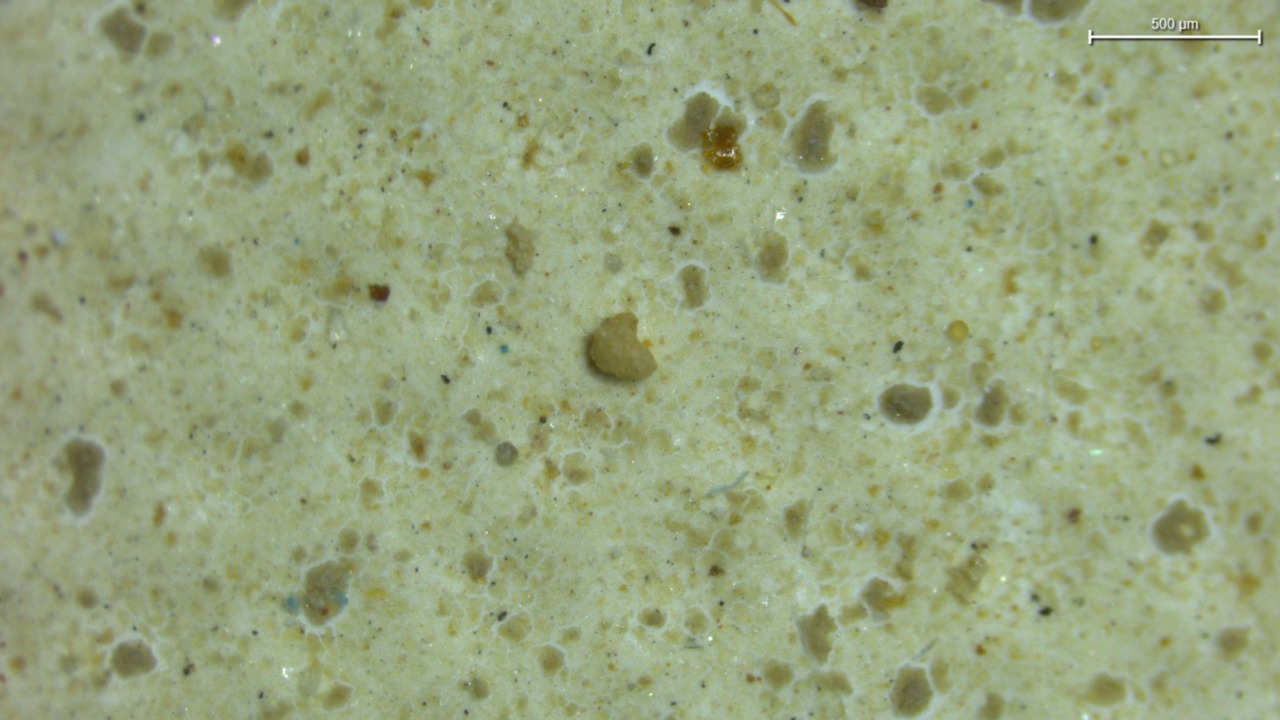microplastic_fragment: (587, 313, 657, 381)
